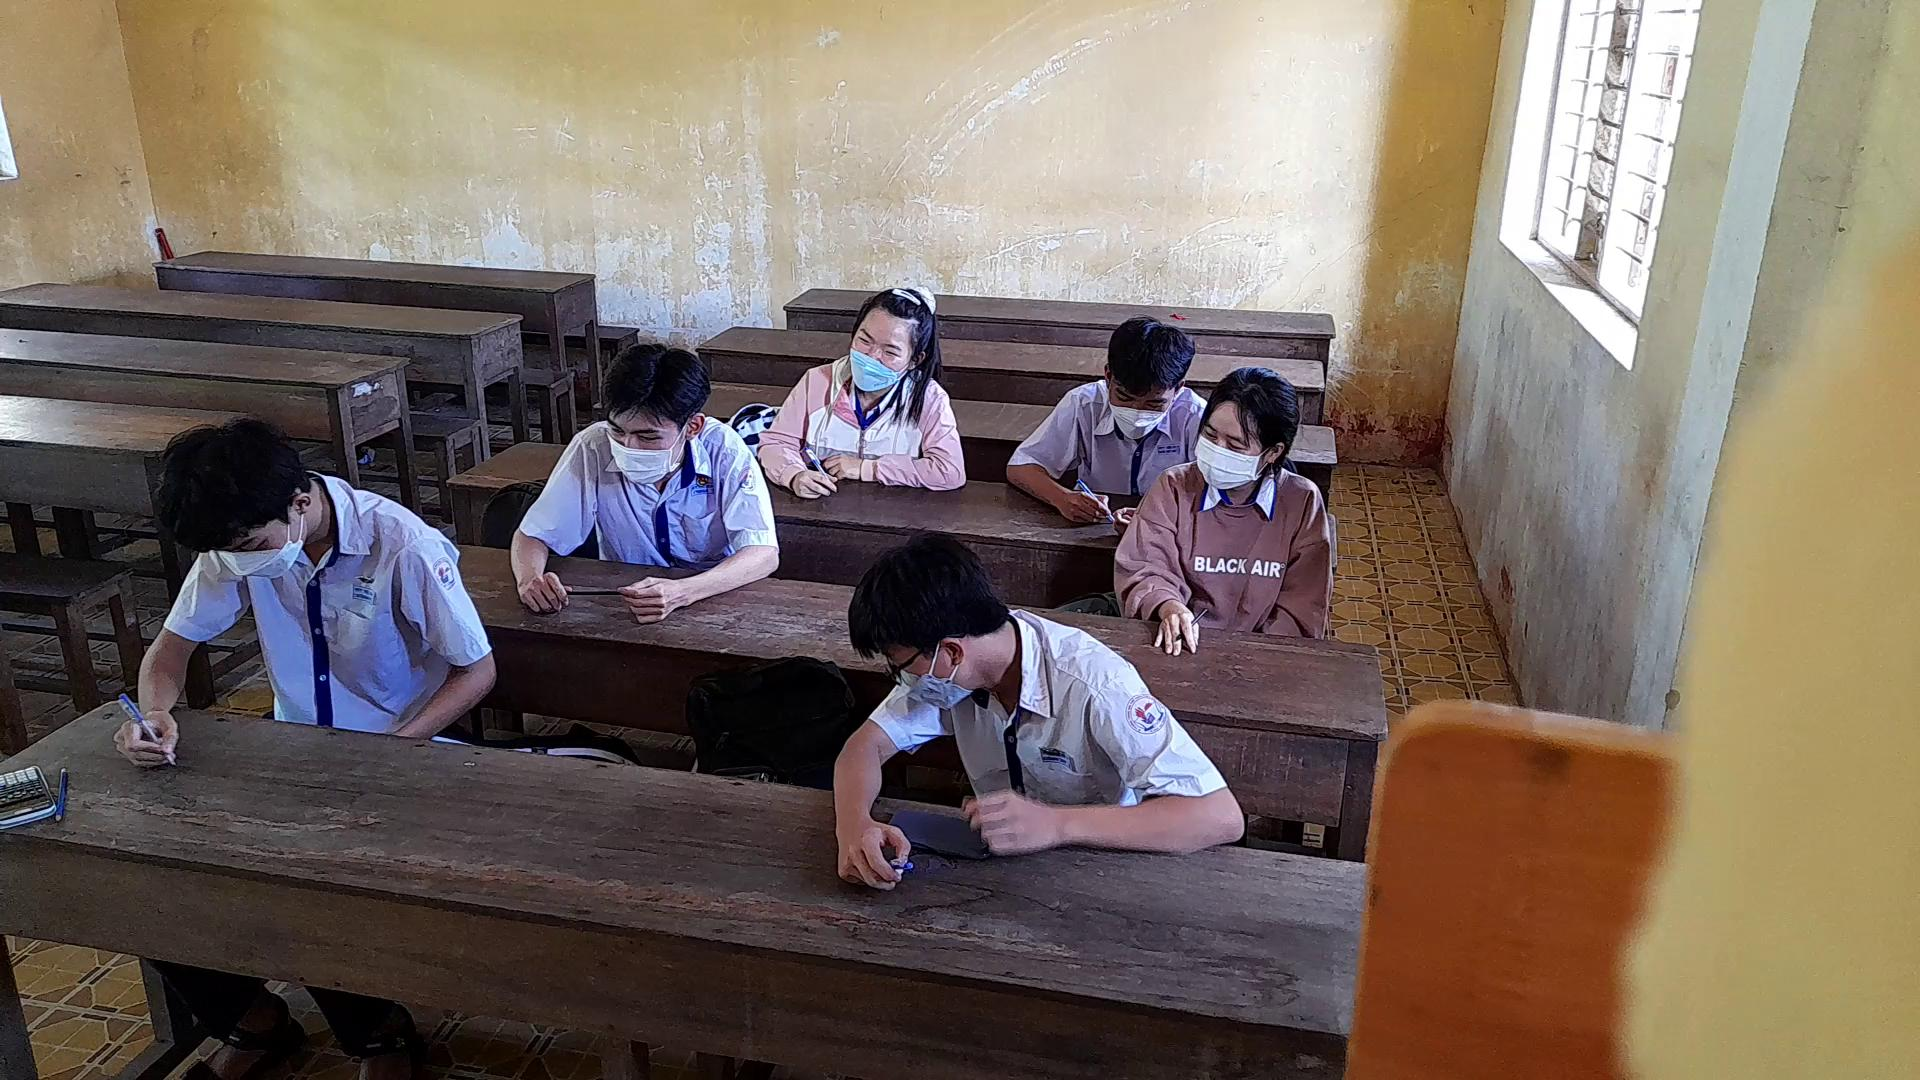Bend Over The Desk: (131, 407, 359, 583), (833, 524, 1062, 698)
Hand Under Table: (377, 539, 498, 749), (1245, 483, 1338, 658)
Normal: (509, 334, 787, 622), (752, 273, 978, 516), (1006, 289, 1232, 531)
